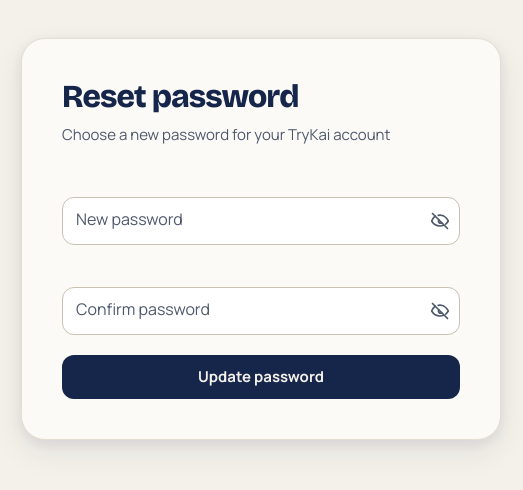
Test case: Reset password › surfaces an updateUser error on the form
The image size is (523, 490).
In the password field labelled "New password": (261, 221) [62,197,460,245], type "hunter22"
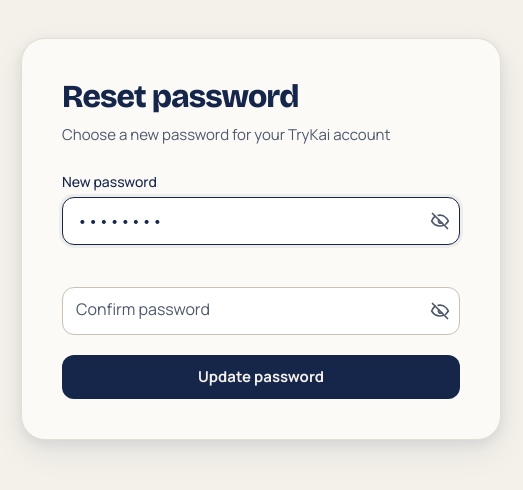
In the password field labelled "Confirm password": (261, 311) [62,287,460,335], type "hunter22"
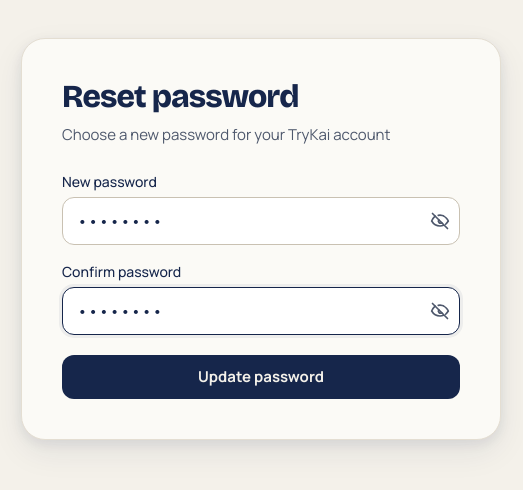
Click the button "Update password": (261, 377) [62,355,460,399]
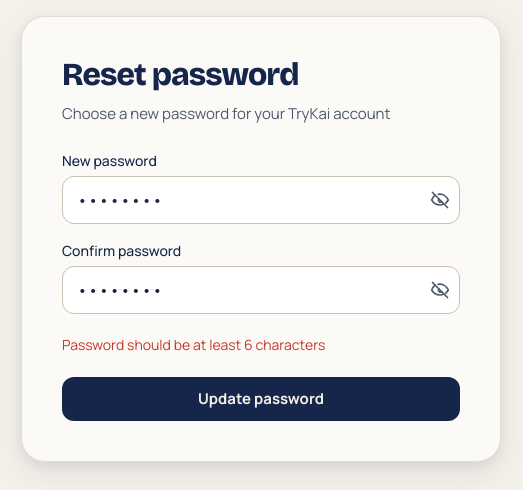
Now the text "Password should be at least 6 characters" is shown, box [62,335,325,354]
